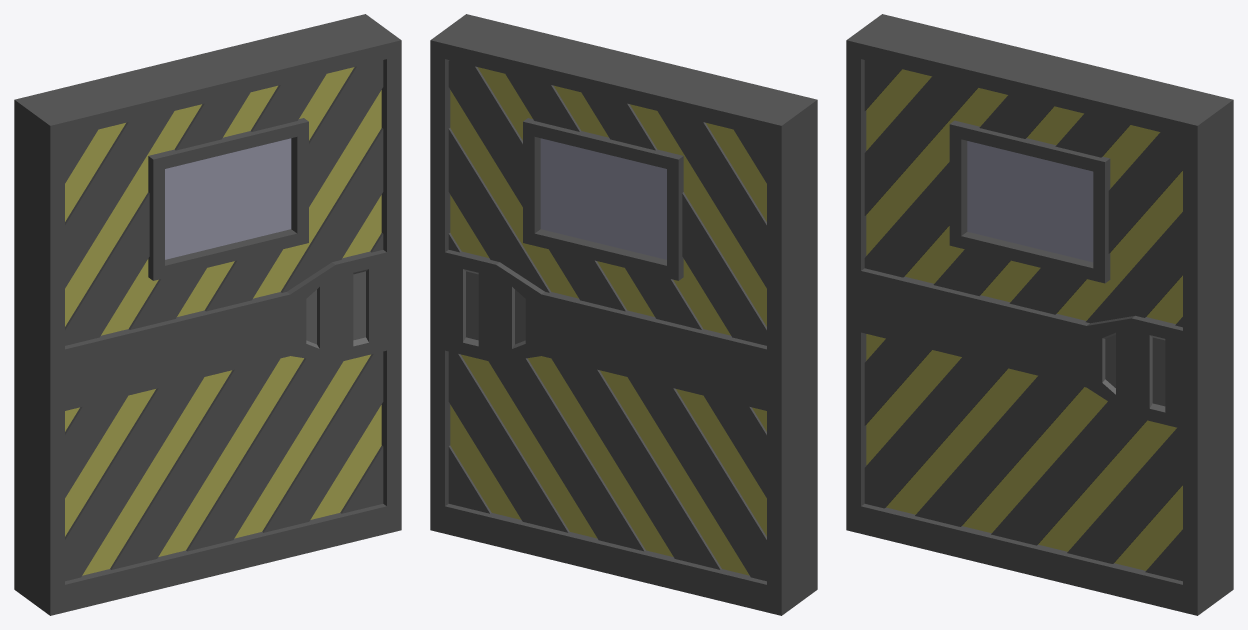
The model's file is SingleDoor.FBX.
3 views of the same model, side by side, from view 1: azimuth 30°, elevation 25°; view 2: azimuth 150°, elevation 25°; view 3: azimuth 330°, elevation 25° (orthographic).
Parts seen in each view (by area): view 1: SingleDoor; view 2: SingleDoor; view 3: SingleDoor.
Boxes of the visible parts, x1=… form: SingleDoor: x1=14, y1=14, x2=401, y2=615; SingleDoor: x1=430, y1=14, x2=817, y2=615; SingleDoor: x1=846, y1=14, x2=1233, y2=615.
Size of the model in its own units: 47.24 by 62.99 by 8.35.
